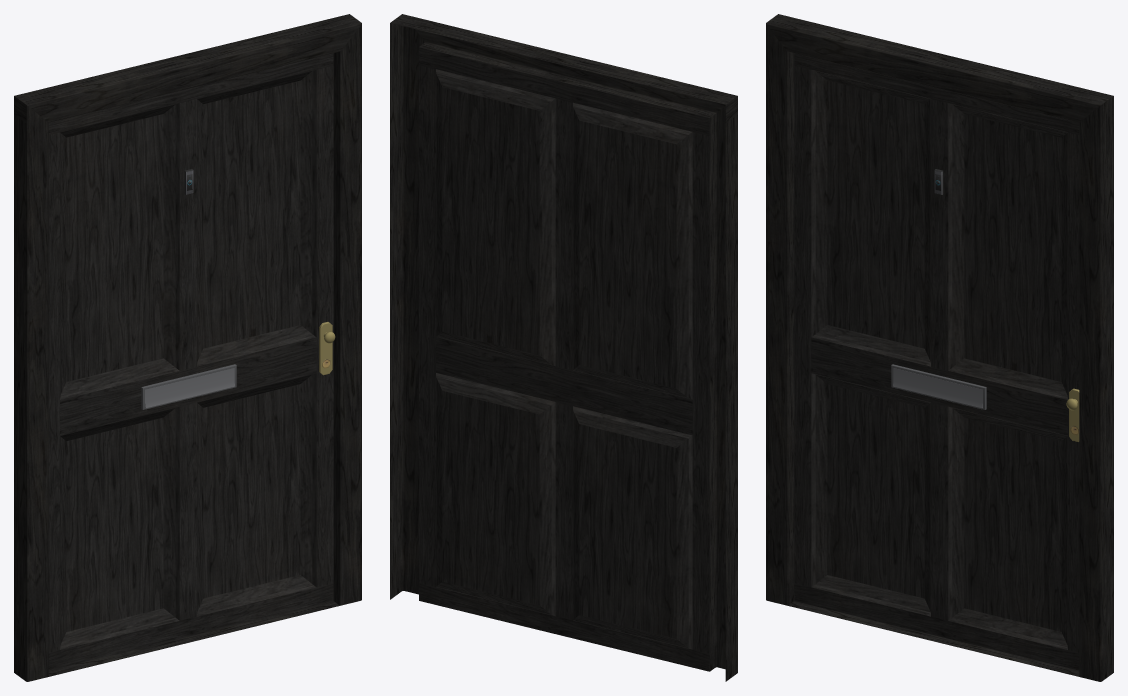
The model's file is wooden_front_door__game_ready__4k.glb.
3 views of the same model, side by side, from view 1: azimuth 30°, elevation 25°; view 2: azimuth 150°, elevation 25°; view 3: azimuth 330°, elevation 25° (orthographic).
Visible parts, largest first — view 1: DOOR_BASE, DOOR_POSTBUS, DOORKNOB_BASSE; view 2: DOOR_BASE; view 3: DOOR_BASE, DOOR_POSTBUS.
Boxes of the visible parts, <box> form: DOOR_BASE: <box>14,14,361,681</box>; DOOR_POSTBUS: <box>141,364,236,409</box>; DOORKNOB_BASSE: <box>319,322,332,375</box>; DOOR_BASE: <box>390,14,737,681</box>; DOOR_BASE: <box>766,14,1113,681</box>; DOOR_POSTBUS: <box>891,364,986,409</box>.
Size of the model in its own units: 1.5 by 2.46 by 0.1.
1 material, 1 textured.
